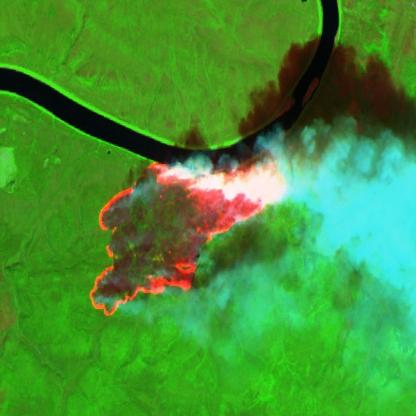fire: (86, 160, 302, 324)
